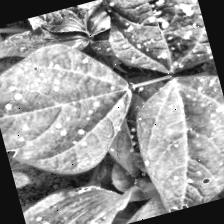Bean Rust: (0, 29, 147, 189), (122, 65, 224, 216), (97, 0, 215, 91)
